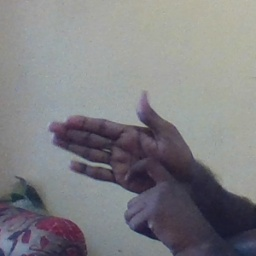R: (48, 91, 180, 226)
